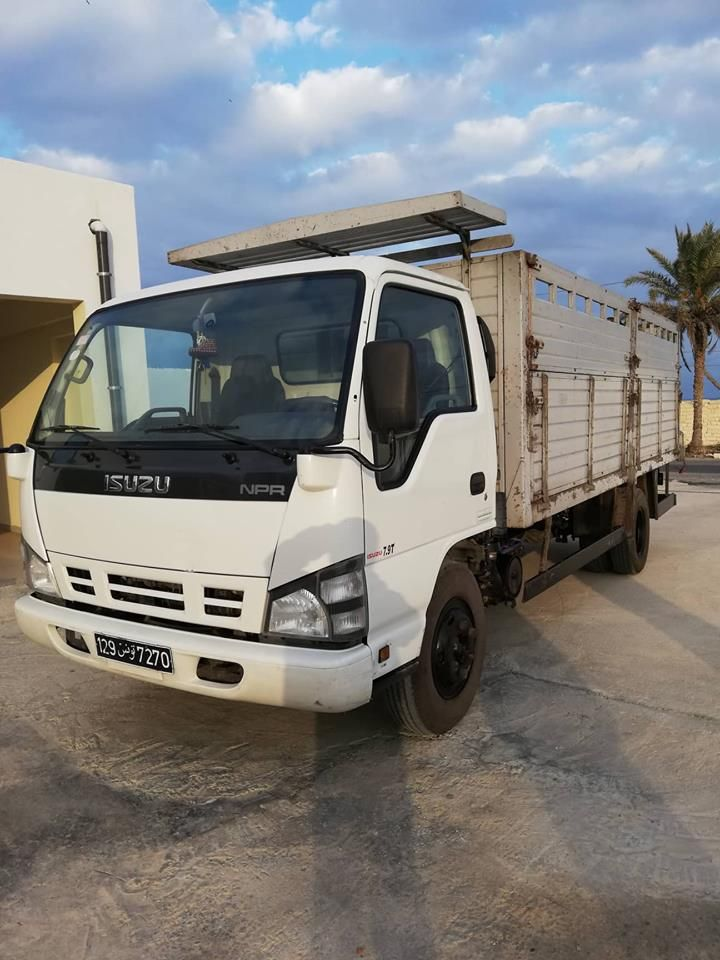LP: (93, 632, 173, 673)
